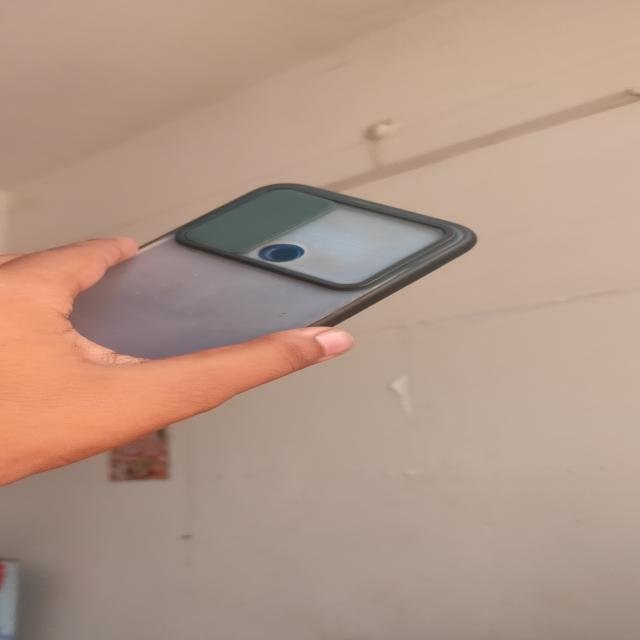Phone: (72, 180, 484, 350)
